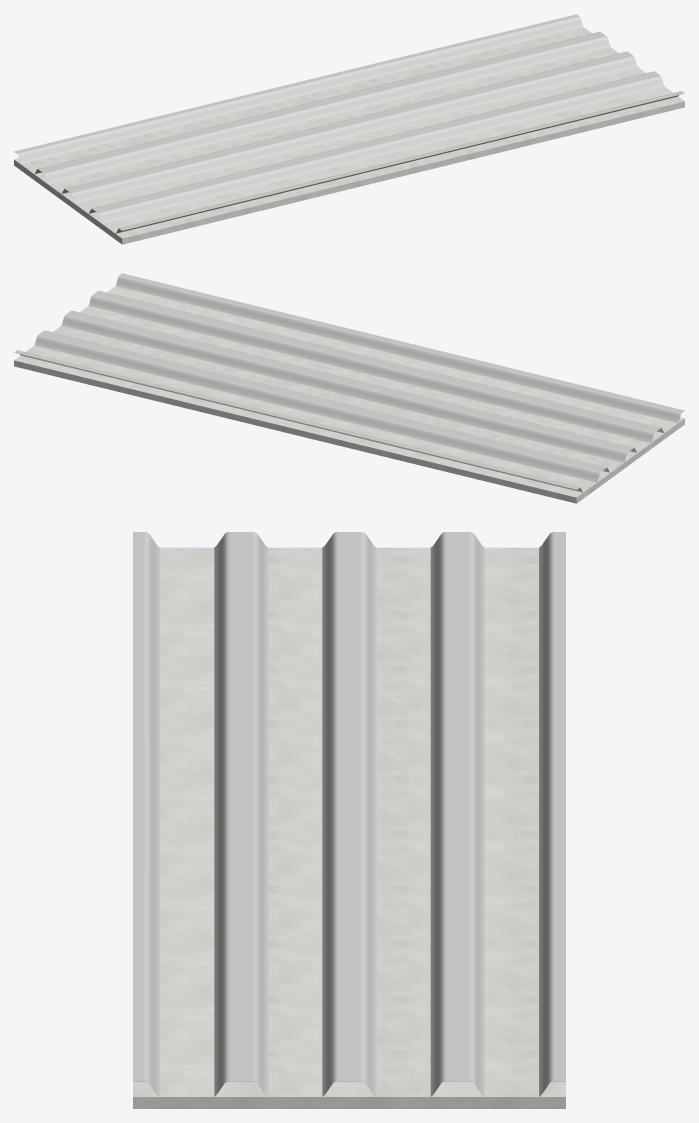
The model's file is COB-MTL-003_lod1.glb.
The picture shows the model from 3 angles, top to bottom: view 1: azimuth 30°, elevation 25°; view 2: azimuth 150°, elevation 25°; view 3: azimuth 270°, elevation 25°; orthographic projection. The views are drawn at different scales.
Visible parts, largest first — view 1: COB-MTL-003_superior, COB-MTL-003_nucleo; view 2: COB-MTL-003_superior, COB-MTL-003_nucleo; view 3: COB-MTL-003_nucleo, COB-MTL-003_superior.
Boxes of the visible parts, x1=… form: COB-MTL-003_superior: x1=14, y1=14, x2=684, y2=233; COB-MTL-003_nucleo: x1=14, y1=27, x2=684, y2=244; COB-MTL-003_superior: x1=14, y1=273, x2=684, y2=492; COB-MTL-003_nucleo: x1=14, y1=286, x2=684, y2=503; COB-MTL-003_nucleo: x1=133, y1=547, x2=565, y2=1108; COB-MTL-003_superior: x1=133, y1=532, x2=565, y2=1097.
Bounding box in the file's own units: 3 × 0.0707 × 1.
2 materials, 1 textured.
